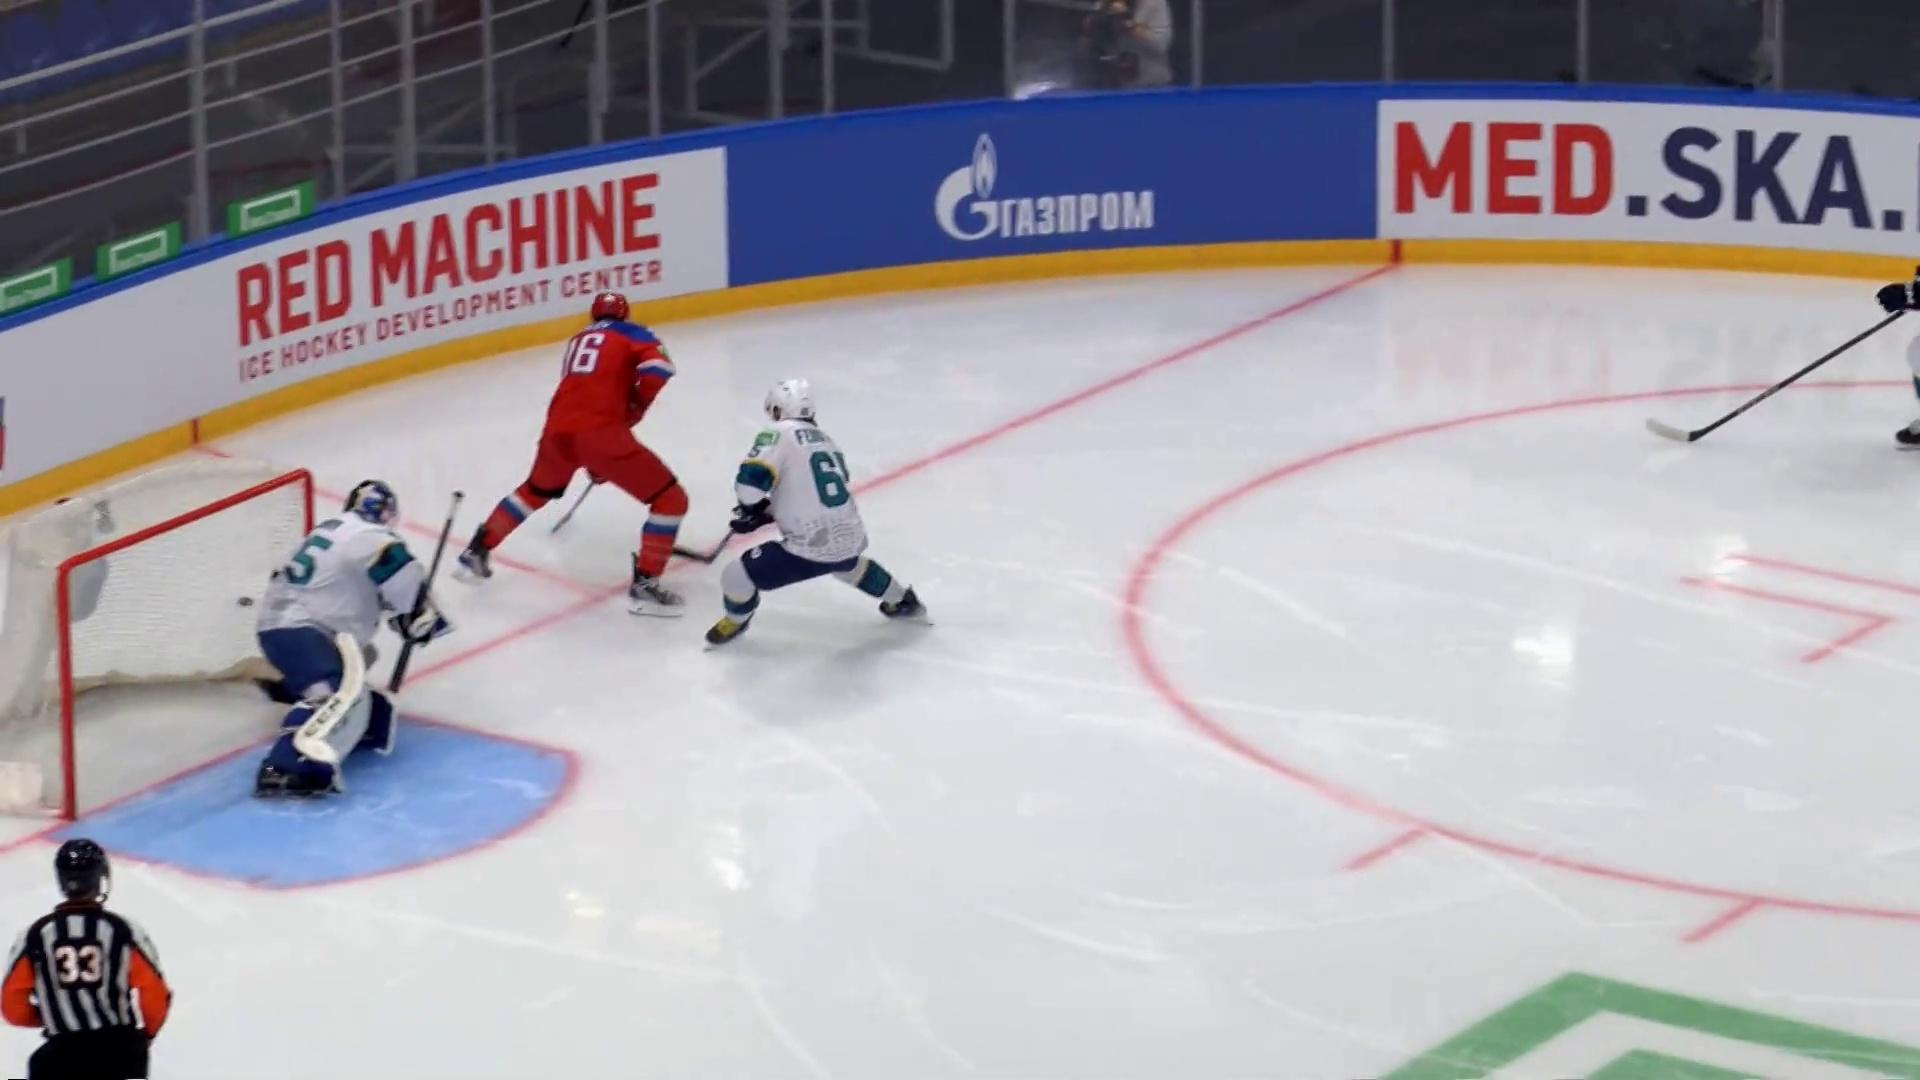ball: (237, 596, 254, 608)
